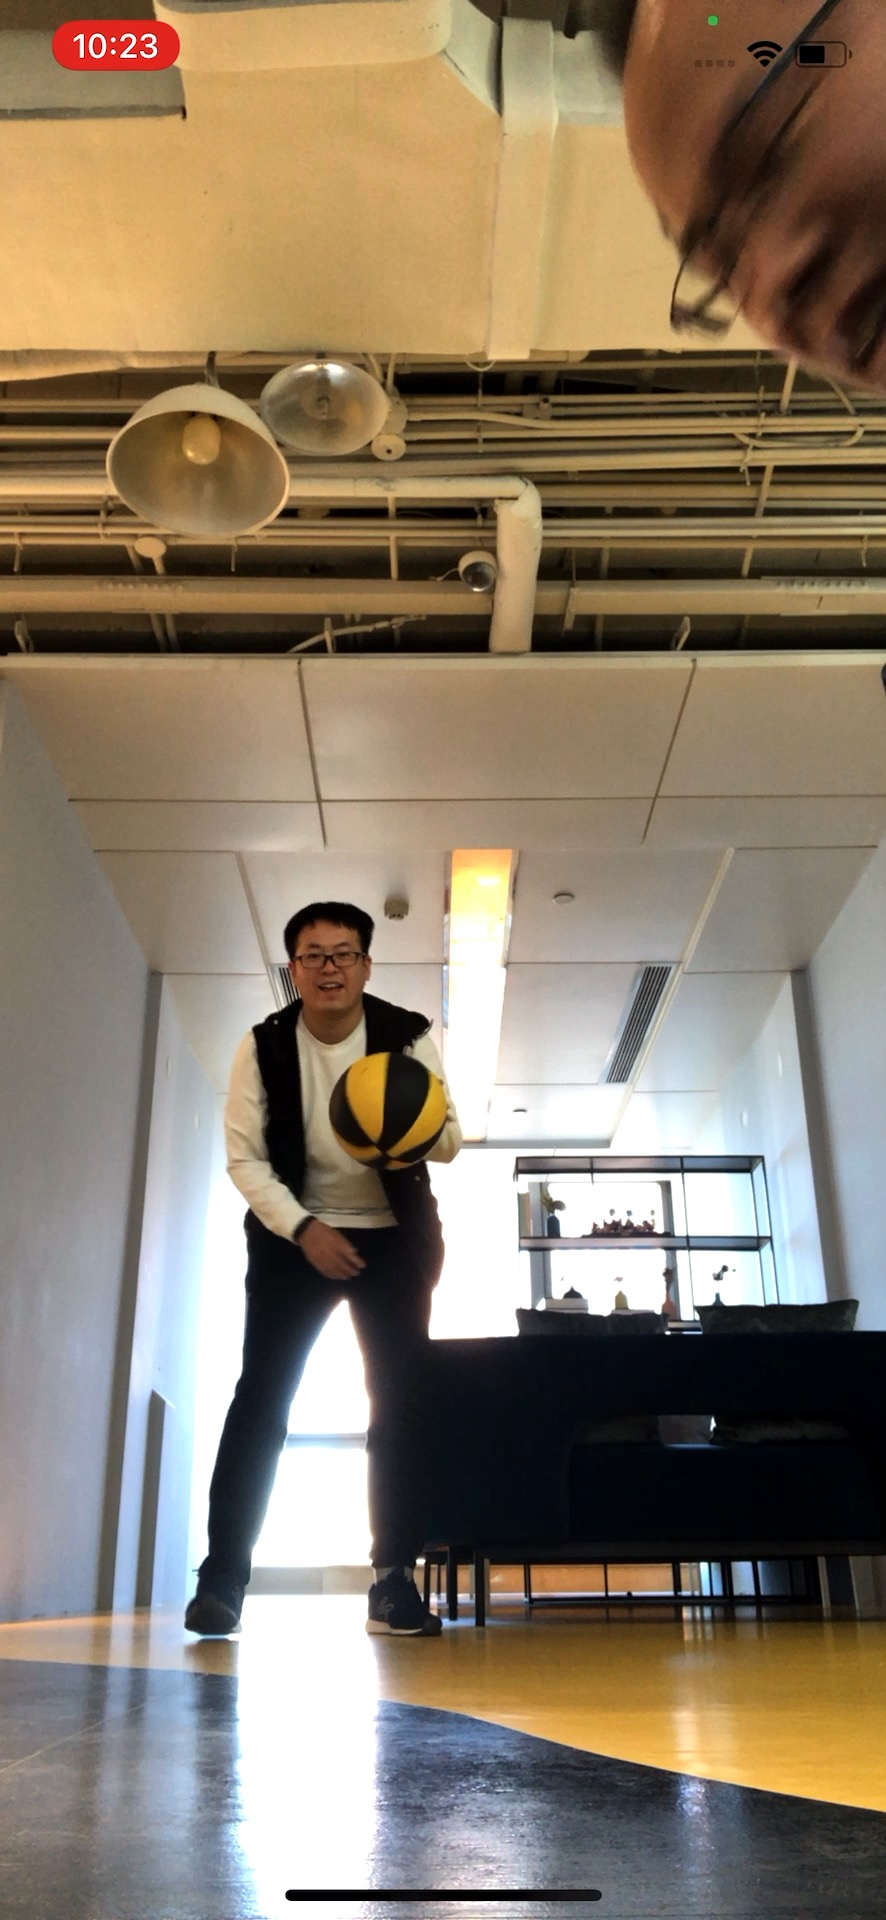ball: (329, 1053, 452, 1171)
